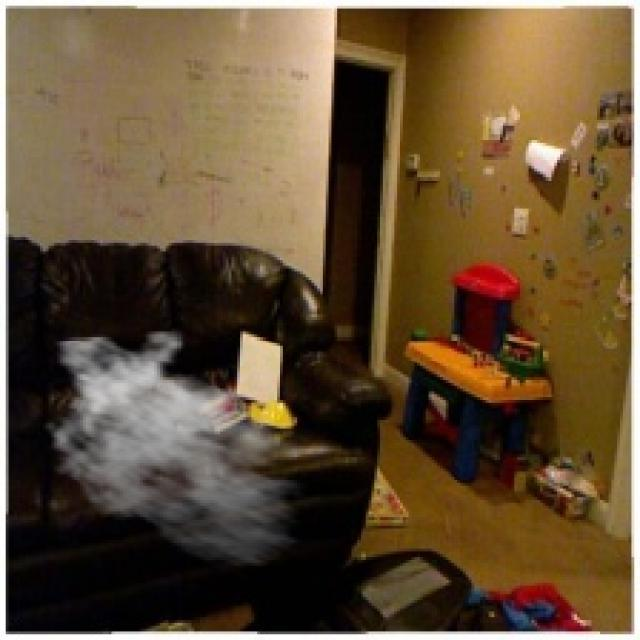Smoke: (40, 328, 323, 568)
